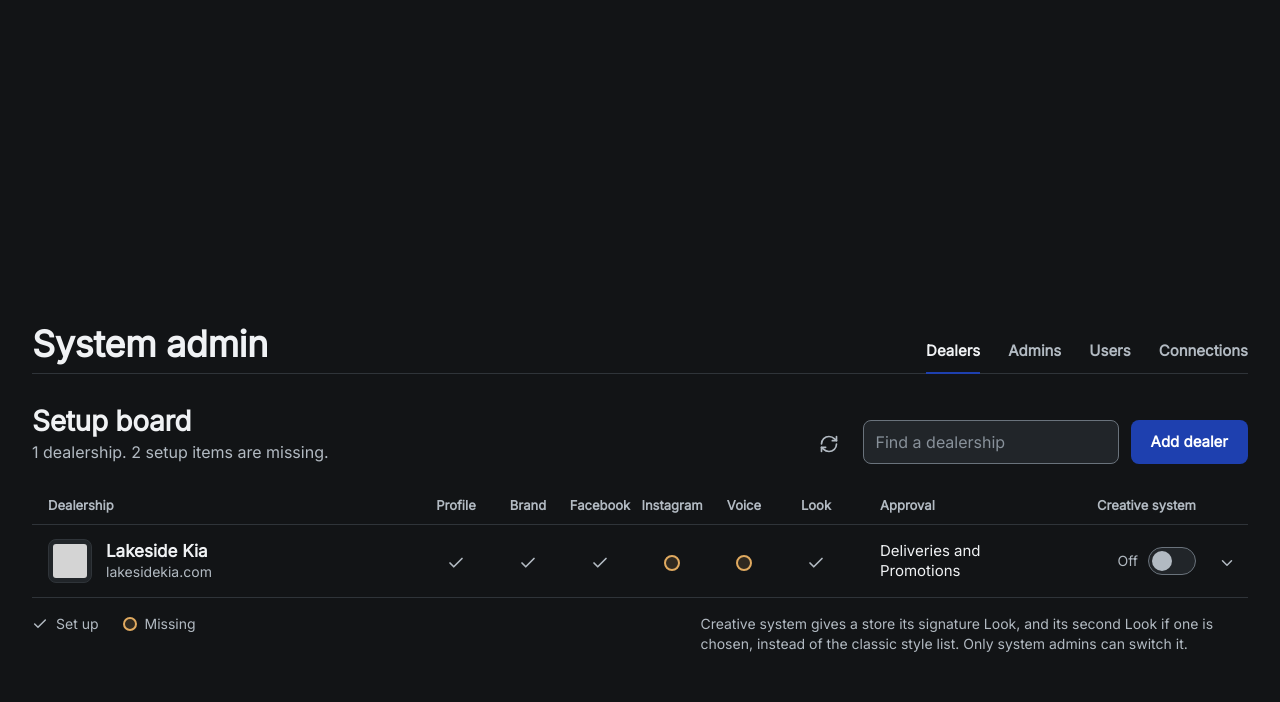
Test case: setup notes › cannot be saved when the list does not carry the field
(page scrolled)
What coordinates should you click on to do the following:
click the button "Lakeside Kia lakesidekia.com"
I would click on:
 (70, 561)
Its box is left=48, top=533, right=408, bottom=589.
(page scrolled)
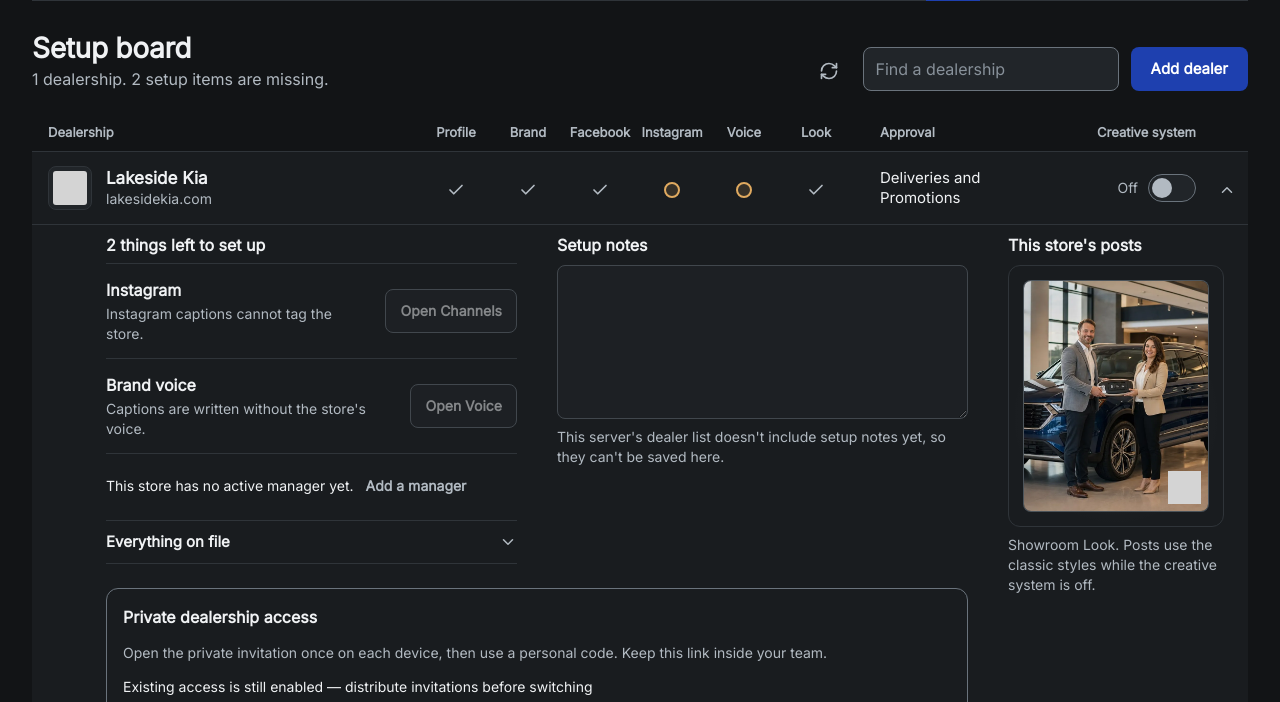
Check: the text box labelled "Setup notes" is disabled, box left=557, top=265, right=968, bottom=419
